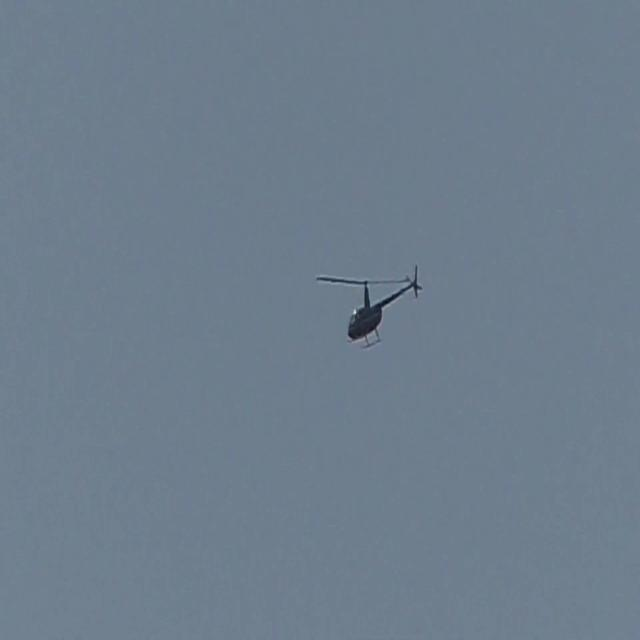CIV_HELO: (346, 263, 424, 350)
